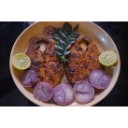seerfish: (27, 36, 64, 86), (69, 36, 100, 84)
